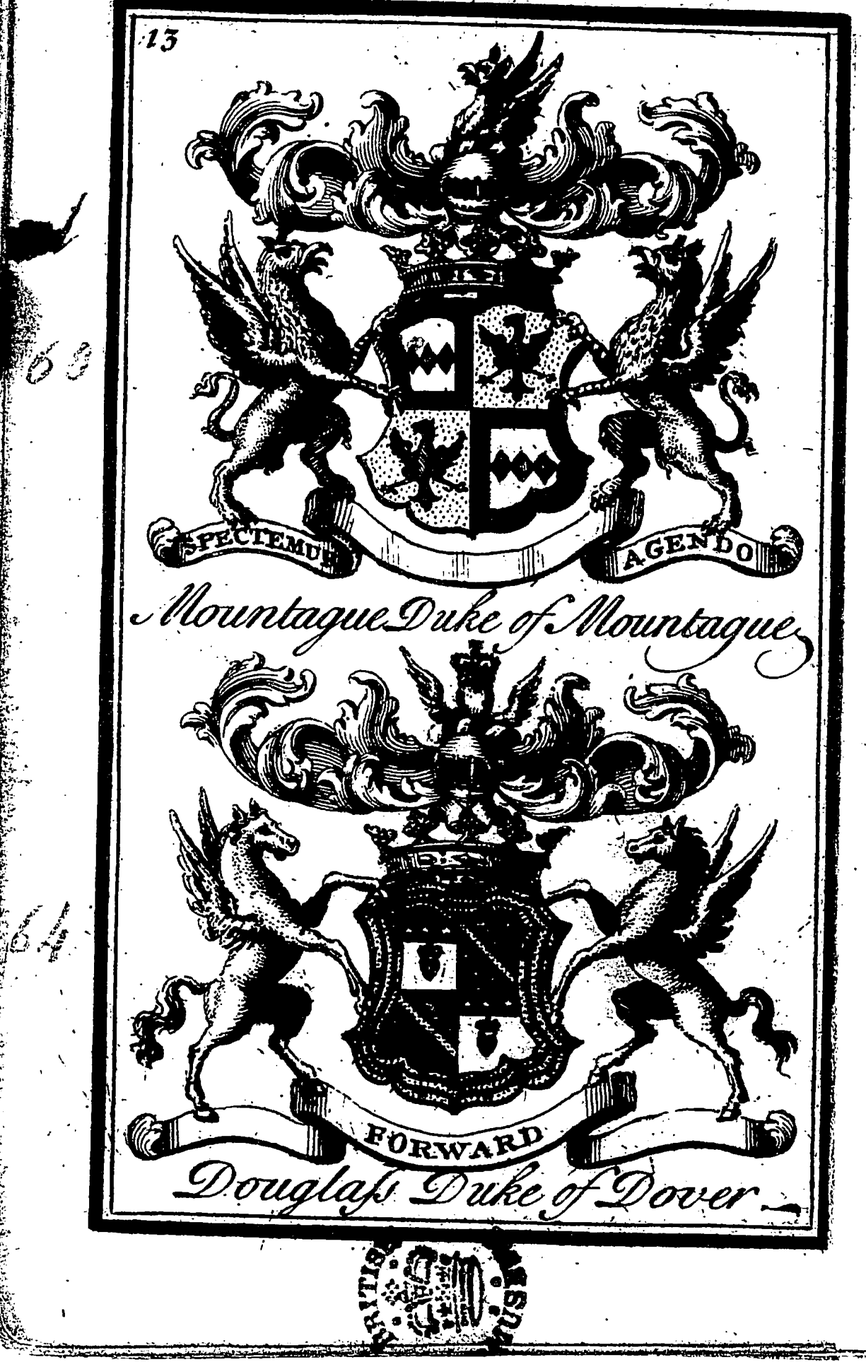coat_of_arms: (146, 24, 811, 660), (135, 643, 798, 1218)
